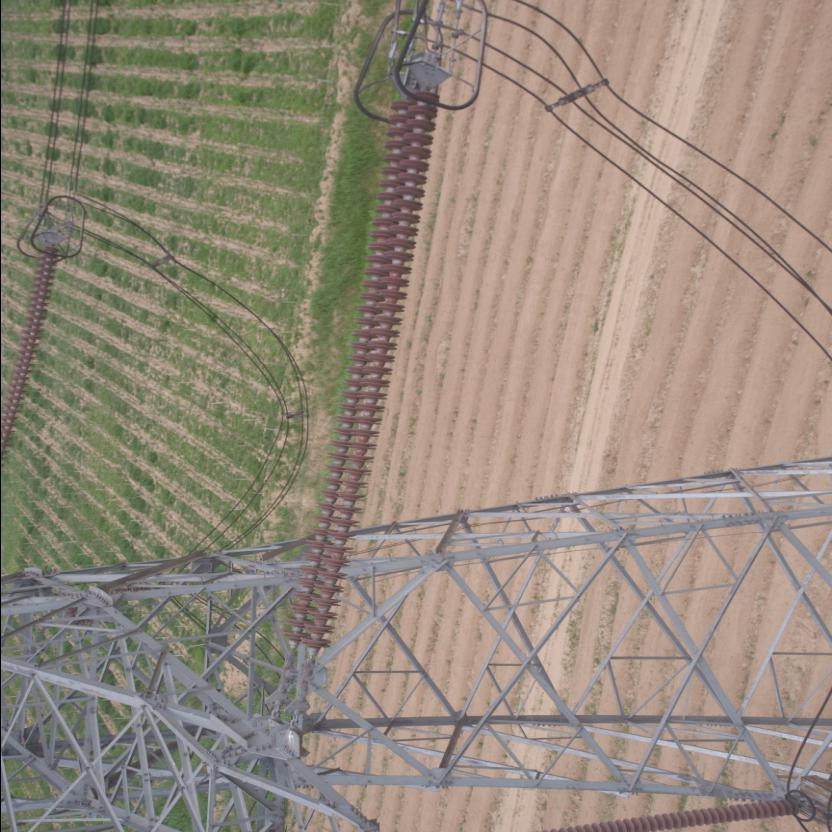insulator: (276, 80, 440, 676), (1, 245, 56, 459)
